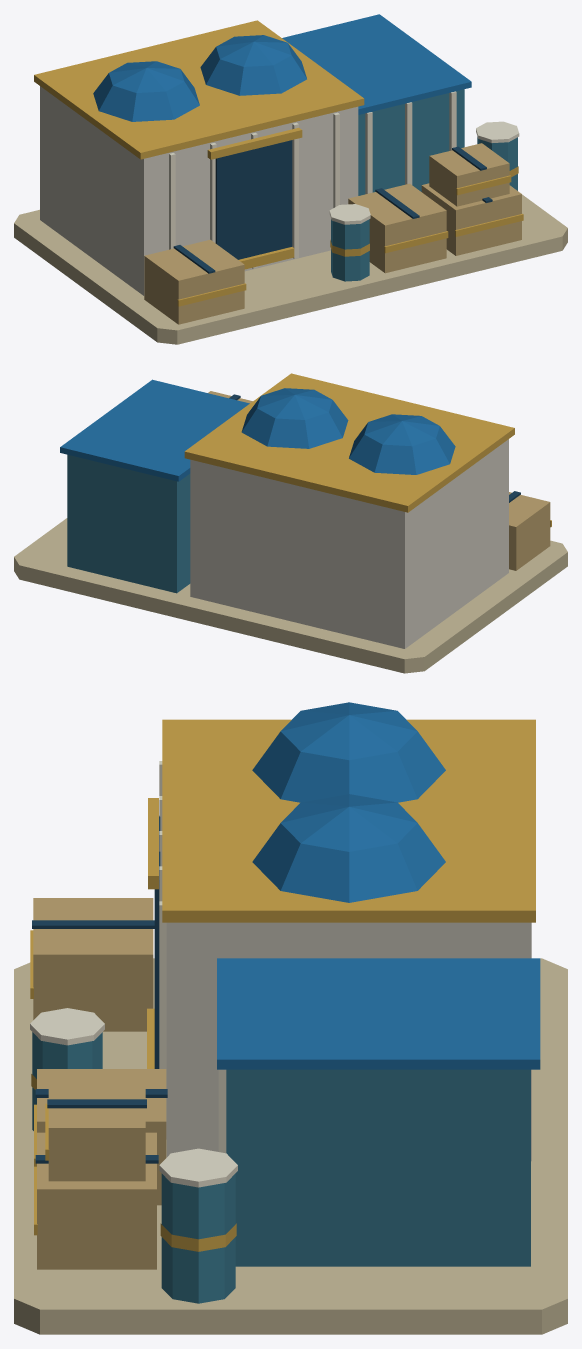
The model's file is palace-ammo-depot.glb.
3 renders of one model, top to bottom at view 1: azimuth 30°, elevation 25°; view 2: azimuth 150°, elevation 25°; view 3: azimuth 270°, elevation 25°, orthographic. The views are drawn at different scales.
Visible parts, largest first — view 1: intact_structure; view 2: intact_structure; view 3: intact_structure.
Part boxes in pixels (box(x1,y1,x2,y2)): intact_structure: box(14, 14, 567, 344); intact_structure: box(14, 373, 567, 673); intact_structure: box(14, 702, 567, 1334).
Size of the model in its own units: 9 by 4 by 6.
